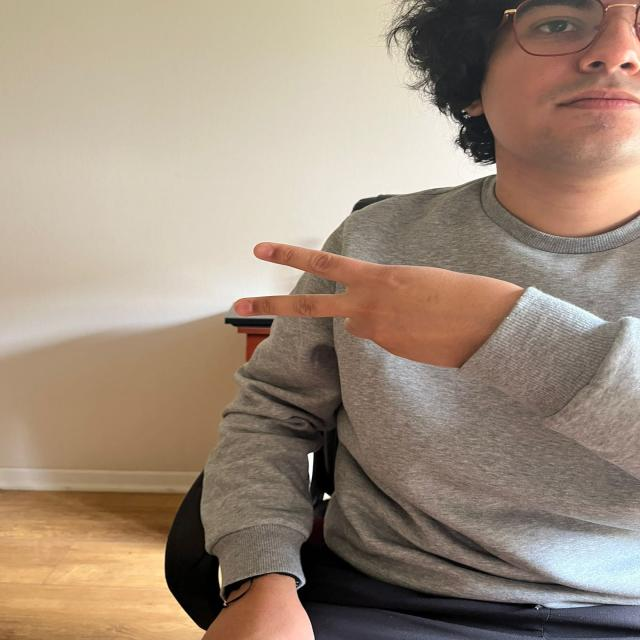H: (227, 236, 533, 371)
